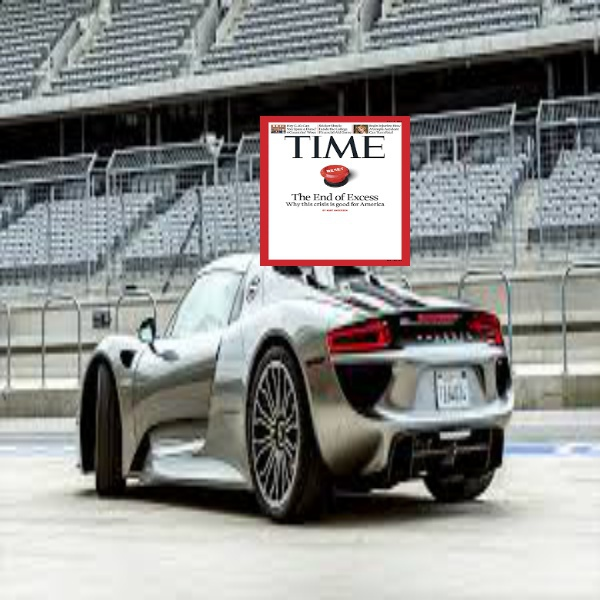time_cover: (257, 105, 408, 263)
